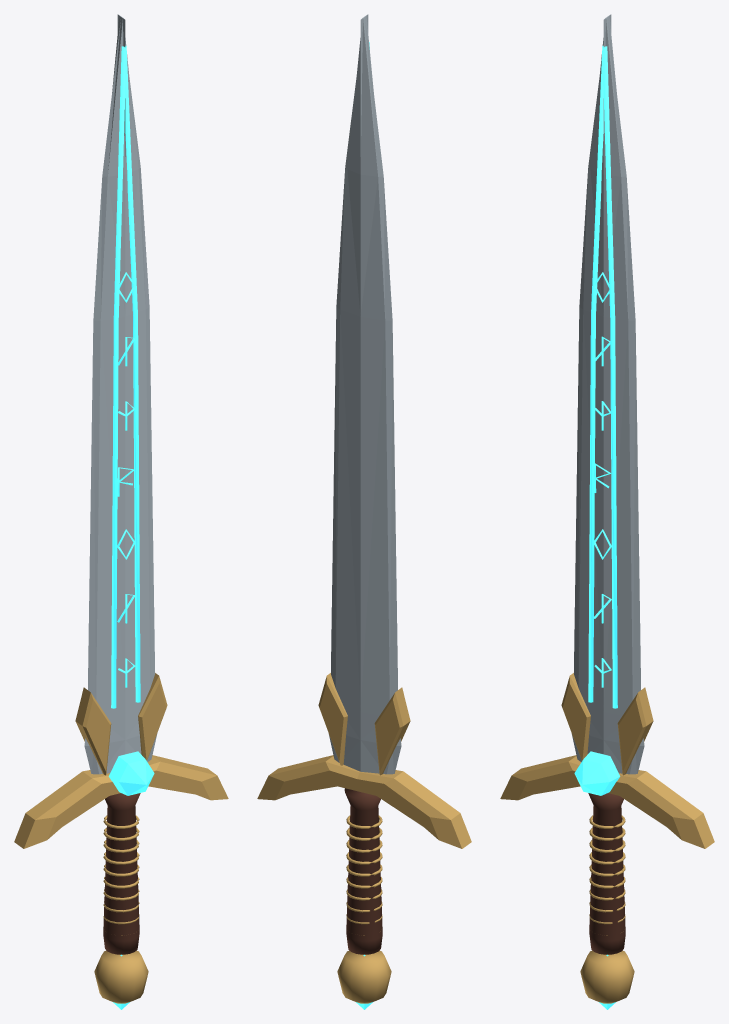
Rendered from iron-sword-legendary.glb.
3 renders of one model, left to right at view 1: azimuth 30°, elevation 25°; view 2: azimuth 150°, elevation 25°; view 3: azimuth 330°, elevation 25°, orthographic.
Parts seen in each view (by area): view 1: iron-sword__legendary; view 2: iron-sword__legendary; view 3: iron-sword__legendary.
Part boxes in pixels (x1,y1,x2,y2): iron-sword__legendary: [14, 14, 228, 1009]; iron-sword__legendary: [257, 14, 471, 1009]; iron-sword__legendary: [500, 14, 714, 1009].
Size of the model in its own units: 0.27 by 1.25 by 0.0882.
